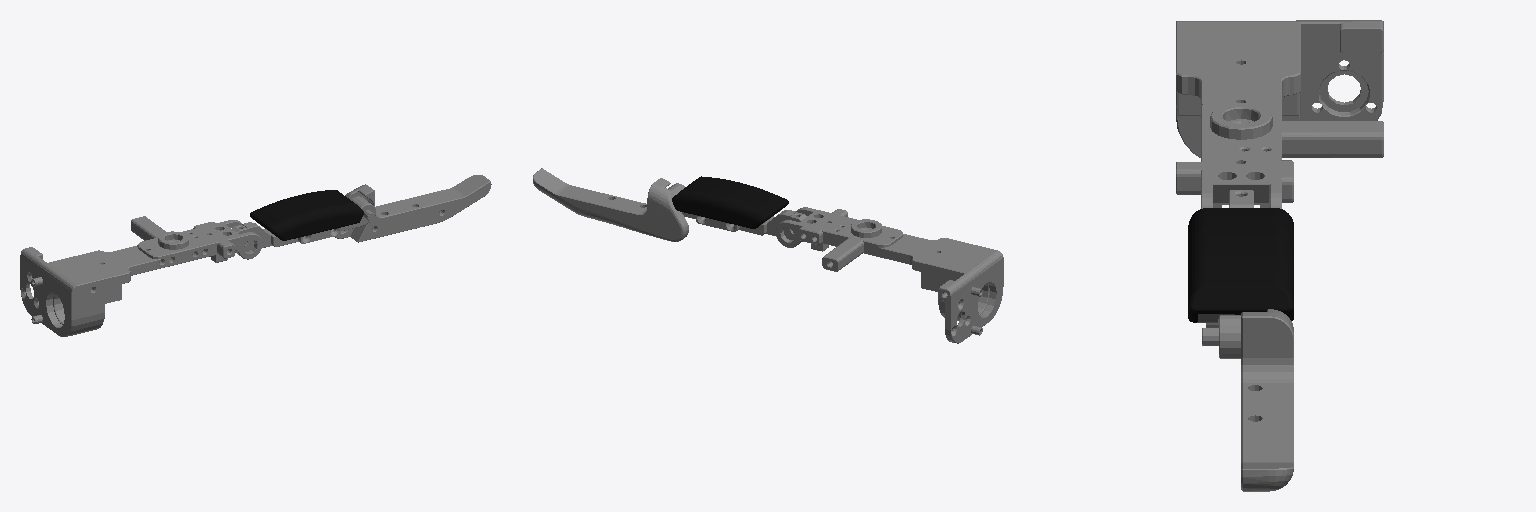
URDF robot description (robot):
<?xml version="1.0" encoding="utf-8"?>
<!-- Mentee Robotics LTD -->
<robot name="robot">
  <link name="base_link">
    <inertial>
      <origin xyz="-0.022035 0.0015817 -0.0085437" rpy="0.0 0.0 0.0" />
      <mass value="0.022212" />
      <inertia ixx="2.0412e-06" ixy="8.5606e-08" ixz="-1.4389e-06" iyy="1.0286e-05" iyz="4.141e-09" izz="1.0785e-05" />
    </inertial>
    <visual>
      <origin xyz="0.0 0.0 0.0" rpy="0.0 0.0 0.0" />
      <geometry>
        <mesh filename="../meshes/base_link/component_0_77.STL" />
      </geometry>
      <material name="Aluminum_Cast">
        <color rgba="0.555 0.555 0.555 1.0" />
      </material>
    </visual>
  </link>
  <joint name="f1" type="revolute">
    <origin xyz="0.025 0.0 -0.0065" rpy="-1.5708 0.0 3.1416" />
    <parent link="base_link" />
    <child link="f1_link" />
    <axis xyz="0.0 0.0 1.0" />
    <limit lower="0.0" upper="1.2217" effort="3.0" velocity="0.866" />
  </joint>
  <link name="f1_link">
    <inertial>
      <origin xyz="-0.024702 -0.0016844 5.9351e-09" rpy="0.0 0.0 0.0" />
      <mass value="0.013981" />
      <inertia ixx="3.5007e-07" ixy="8.8989e-09" ixz="-2.7279e-14" iyy="2.0695e-06" iyz="-1.8122e-14" izz="1.9544e-06" />
    </inertial>
    <visual>
      <origin xyz="0.0 0.0 0.0" rpy="0.0 0.0 0.0" />
      <geometry>
        <mesh filename="../meshes/f1_link/component_0_23.STL" />
      </geometry>
      <material name="Aluminum_Cast">
        <color rgba="0.555 0.555 0.555 1.0" />
      </material>
    </visual>
    <visual>
      <origin xyz="0.0 0.0 0.0" rpy="0.0 0.0 0.0" />
      <geometry>
        <mesh filename="../meshes/f1_link/component_2_24-21.STL" />
      </geometry>
      <material name="Aluminum_Cast">
        <color rgba="0.555 0.555 0.555 1.0" />
      </material>
    </visual>
    <visual>
      <origin xyz="0.0 0.0 0.0" rpy="0.0 0.0 0.0" />
      <geometry>
        <mesh filename="../meshes/f1_link/component_1_24-22.STL" />
      </geometry>
      <material name="Rubber_Textured">
        <color rgba="0.111 0.111 0.111 1.0" />
      </material>
    </visual>
    <collision>
      <origin xyz="-0.022 0.005 0.0" rpy="0.0 1.5708 0.0" />
      <geometry>
        <cylinder radius="0.011" length="0.014" />
      </geometry>
    </collision>
  </link>
  <joint name="f2" type="revolute">
    <origin xyz="-0.045 0.0 0.0" rpy="0.0 0.0 3.1416" />
    <parent link="f1_link" />
    <child link="f2_link" />
    <axis xyz="0.0 0.0 1.0" />
    <limit lower="0.0" upper="1.0472" effort="0.0" velocity="0.0" />
  </joint>
  <link name="f2_link">
    <inertial>
      <origin xyz="0.019715 -0.0046347 -0.00011604" rpy="0.0 0.0 0.0" />
      <mass value="0.018642" />
      <inertia ixx="9.1068e-07" ixy="-1.3561e-07" ixz="-5.5927e-09" iyy="4.4551e-06" iyz="-7.101e-09" izz="4.3649e-06" />
    </inertial>
    <visual>
      <origin xyz="0.0 0.0 0.0" rpy="0.0 0.0 0.0" />
      <geometry>
        <mesh filename="../meshes/f2_link/component_1_25.STL" />
      </geometry>
      <material name="Aluminum_Cast">
        <color rgba="0.555 0.555 0.555 1.0" />
      </material>
    </visual>
    <visual>
      <origin xyz="0.0 0.0 0.0" rpy="0.0 0.0 0.0" />
      <geometry>
        <mesh filename="../meshes/f2_link/component_2_26.STL" />
      </geometry>
      <material name="Aluminum_Cast">
        <color rgba="0.555 0.555 0.555 1.0" />
      </material>
    </visual>
    <visual>
      <origin xyz="0.0 0.0 0.0" rpy="0.0 0.0 0.0" />
      <geometry>
        <mesh filename="../meshes/f2_link/component_0_27-22.STL" />
      </geometry>
      <material name="Rubber_Textured">
        <color rgba="0.111 0.111 0.111 1.0" />
      </material>
    </visual>
    <collision>
      <origin xyz="0.0124972 -0.0024282 0.0" rpy="0.0 0.0 0.0" />
      <geometry>
        <sphere radius="0.009" />
      </geometry>
    </collision>
    <collision>
      <origin xyz="0.0365951 -0.00188703 0.0" rpy="0.0 0.0 0.0" />
      <geometry>
        <sphere radius="0.009" />
      </geometry>
    </collision>
  </link>
</robot>

--- Facts derived from the render (not from the file) ---
Views: 3 orthographic renders of the robot side by side, from view 1: azimuth 30°, elevation 25°; view 2: azimuth 150°, elevation 25°; view 3: azimuth 270°, elevation 25°.
Model robot with 3 links and 2 joints (2 revolute), rooted at base_link, posed all joints at 0.
Visible links, largest first — view 1: base_link, f1_link, f2_link; view 2: base_link, f1_link, f2_link; view 3: base_link, f1_link, f2_link.
Boxes of the visible links, x1,y1,x2,y2 form: base_link: [20, 216, 262, 336]; f1_link: [232, 190, 375, 252]; f2_link: [335, 175, 491, 242]; base_link: [776, 207, 1003, 343]; f1_link: [668, 176, 806, 241]; f2_link: [533, 168, 688, 241]; base_link: [1176, 20, 1383, 208]; f1_link: [1188, 190, 1293, 358]; f2_link: [1241, 309, 1293, 491].
Bounding box of the posed robot: 0.1655 × 0.0334 × 0.0249 m (x, y, z).
5 mesh visuals loaded from 7 distinct referenced files (5 binary STL); not drawn: 2 (reference not matched to a file when rendering).